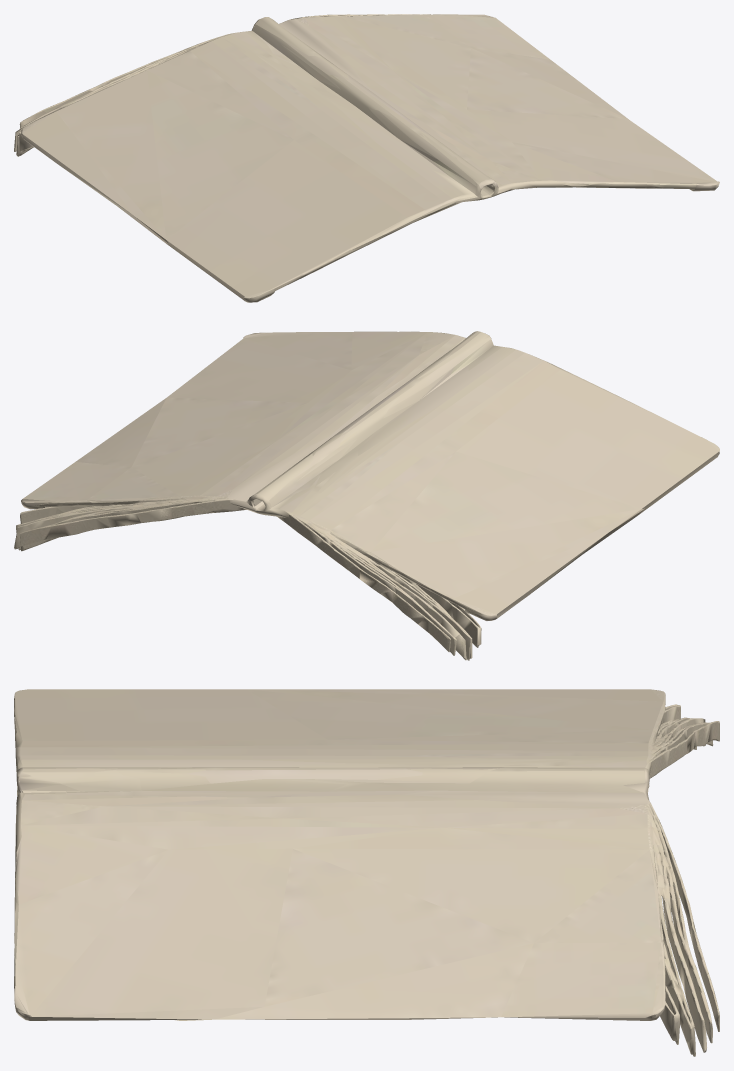
File: book.glb
The picture shows the model from 3 angles, top to bottom: view 1: azimuth 30°, elevation 25°; view 2: azimuth 150°, elevation 25°; view 3: azimuth 270°, elevation 25°; orthographic projection. The views are drawn at different scales.
Bounding box in the file's own units: 1.9 × 0.3715 × 1.74.
Materials: 1 (1 with a texture image).
